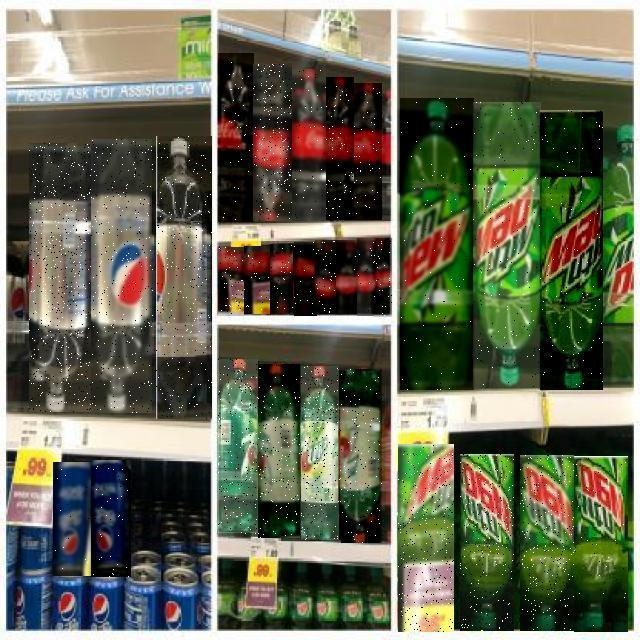Drinks: (400, 98, 474, 390), (473, 103, 541, 389), (540, 110, 603, 390), (92, 139, 154, 413), (29, 143, 91, 412), (156, 136, 212, 419), (398, 445, 454, 633), (461, 454, 515, 631), (520, 455, 574, 631), (574, 456, 628, 632), (258, 364, 300, 538), (342, 369, 384, 543), (218, 360, 259, 536), (302, 366, 342, 540), (253, 64, 292, 221), (218, 53, 254, 222), (292, 69, 326, 220), (91, 460, 131, 577), (53, 462, 92, 576), (326, 77, 354, 220), (355, 83, 383, 220), (218, 248, 244, 316), (244, 246, 270, 314), (294, 242, 317, 316), (315, 241, 337, 315), (336, 241, 358, 315), (270, 244, 293, 314), (373, 238, 392, 317), (357, 238, 375, 316)
